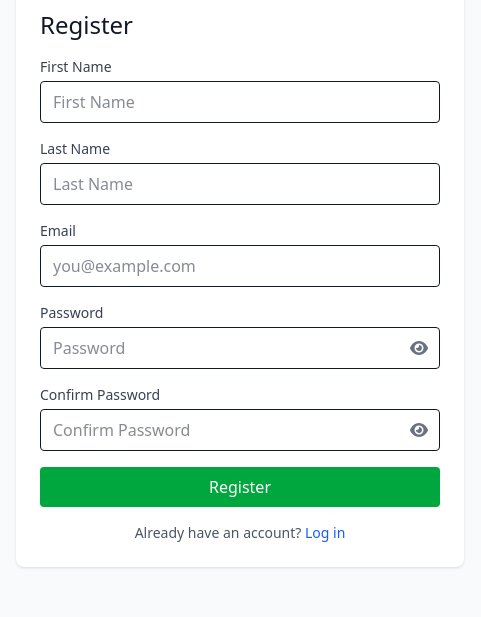
RegisterForm component › shows error when password too short
Type "Jane" into the field with placeholder "First Name" at (240, 102), box x1=40 y1=81 x2=440 y2=123
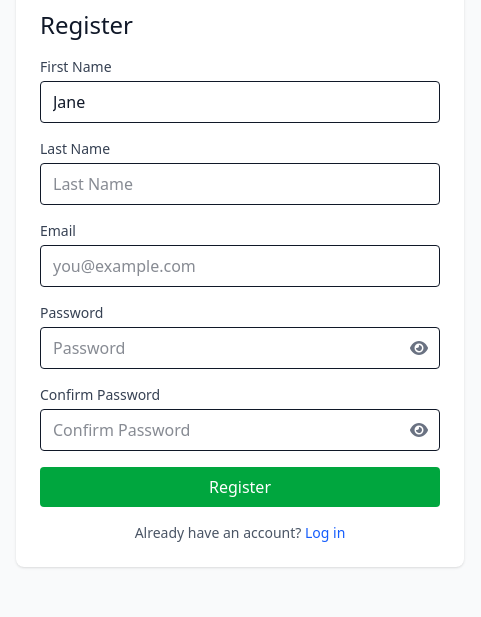
Type "Doe" into the field with placeholder "Last Name" at (240, 184), box x1=40 y1=163 x2=440 y2=205
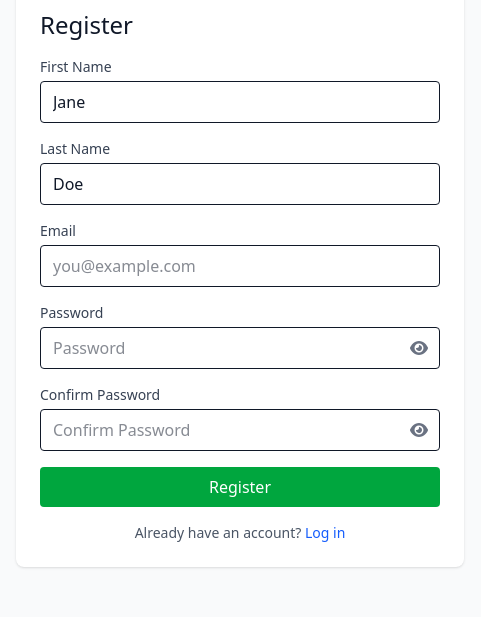
Type "jane@example.com" into the field with placeholder "you@example.com" at (240, 266), box x1=40 y1=245 x2=440 y2=287
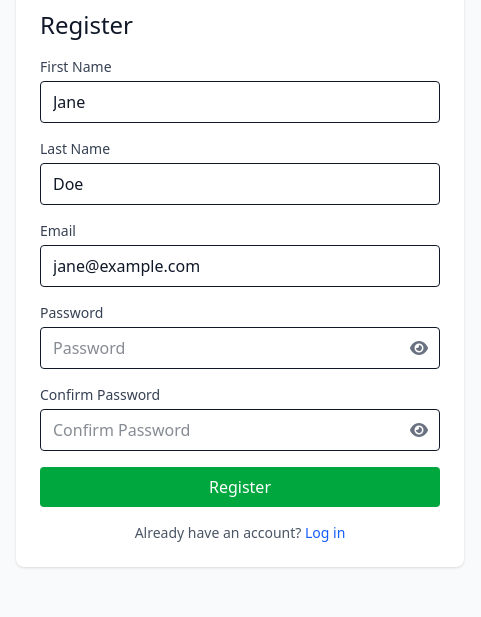
Type "123" into the password field with placeholder "Password" at (240, 348), box x1=40 y1=327 x2=440 y2=369
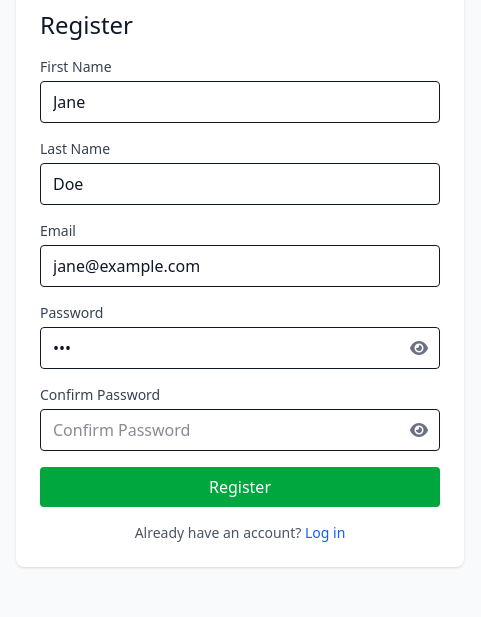
Type "123" into the password field with placeholder "Confirm Password" at (240, 430), box x1=40 y1=409 x2=440 y2=451
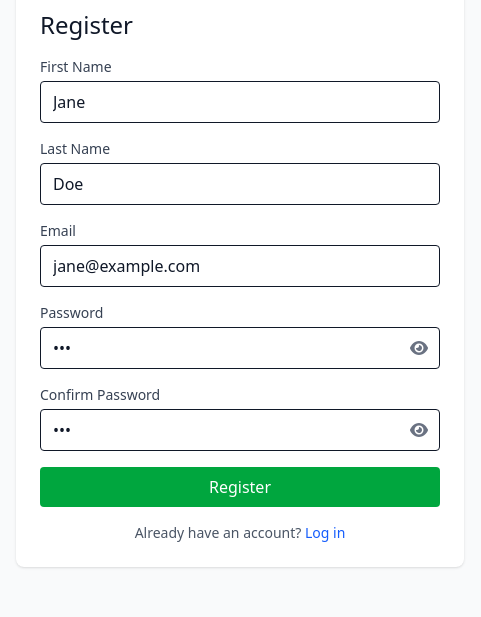
Click the button "Register" at (240, 487), box x1=40 y1=467 x2=440 y2=507
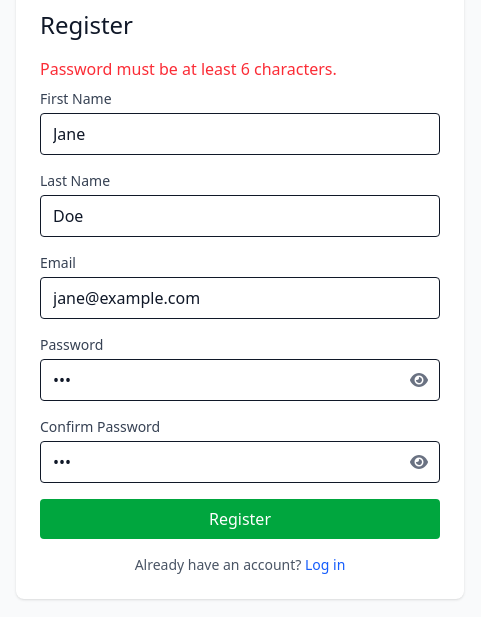
Now the text "Password must be at least 6 characters." is shown, box x1=40 y1=58 x2=337 y2=80
